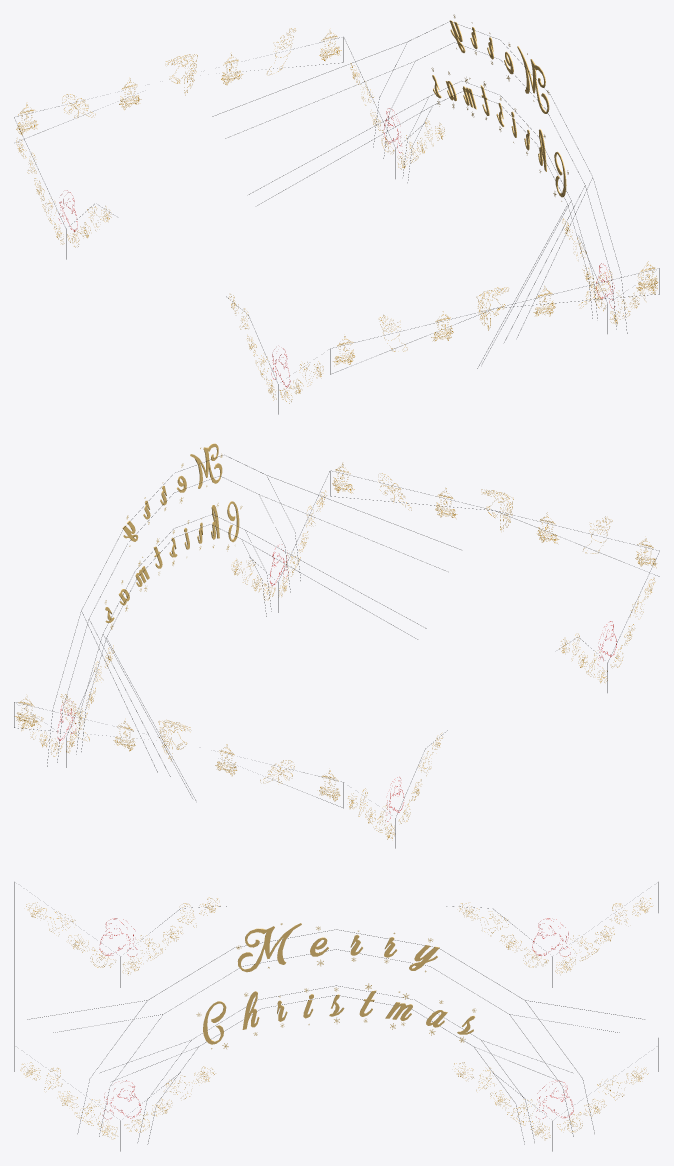
File: MerryChristmas.glb
3 renders of one model, top to bottom at view 1: azimuth 30°, elevation 25°; view 2: azimuth 150°, elevation 25°; view 3: azimuth 270°, elevation 25°, orthographic.
Visible parts, largest first — view 1: Text.006, Text, Circle.001; view 2: Text.006, Text, Circle.001; view 3: Text, Text.006, Circle.001.
Part boxes in pixels (bbox=[...]): Text.006: bbox=[16, 28, 657, 403]; Text: bbox=[431, 14, 568, 201]; Circle.001: bbox=[14, 21, 659, 414]; Text.006: bbox=[15, 463, 656, 839]; Text: bbox=[105, 443, 242, 629]; Circle.001: bbox=[14, 455, 659, 848]; Text: bbox=[196, 923, 476, 1049]; Text.006: bbox=[20, 897, 652, 1138]; Circle.001: bbox=[14, 882, 658, 1151].
Bounding box in the file's own units: 20.81 × 13.46 × 34.51.
